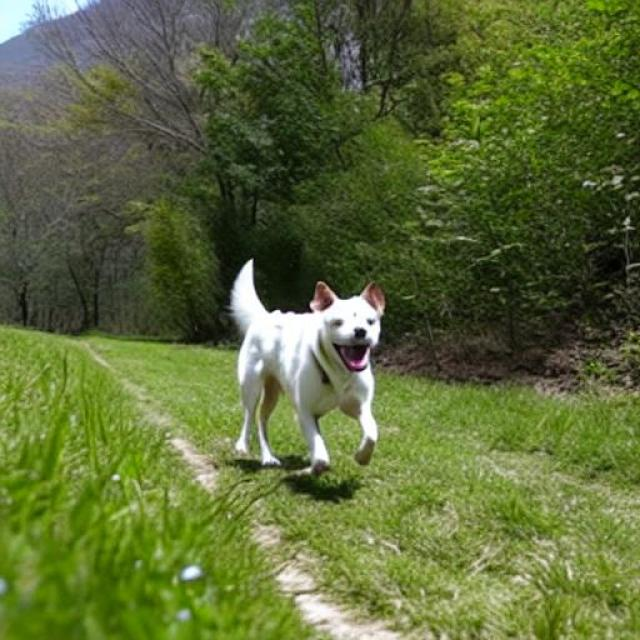Dog: (230, 258, 386, 476)
